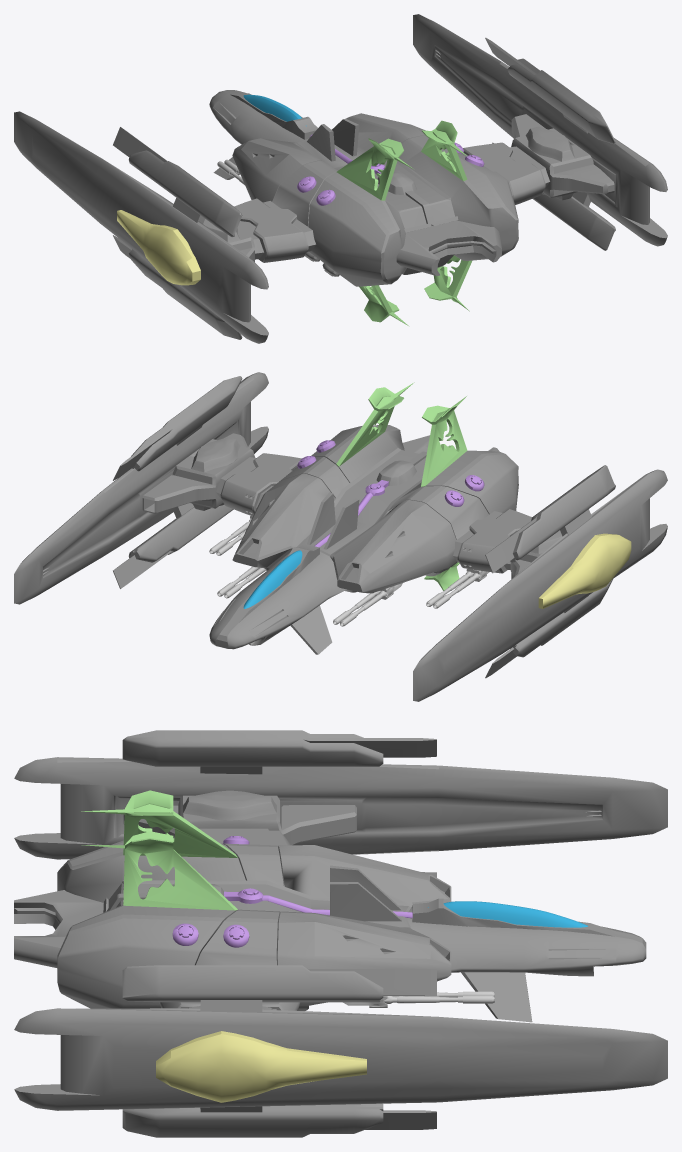
File: Ship.FBX
3 views of the same model, one above another, from view 1: azimuth 30°, elevation 25°; view 2: azimuth 150°, elevation 25°; view 3: azimuth 270°, elevation 25° (orthographic). The views are drawn at different scales.
Parts seen in each view (by area): view 1: objBox03; view 2: objBox03; view 3: objBox03.
Part boxes in pixels (x1,y1,x2,y2): objBox03: (14,14,667,343); objBox03: (14,372,667,701); objBox03: (14,730,667,1137).
Size of the model in its own units: 225 by 85.34 by 218.
